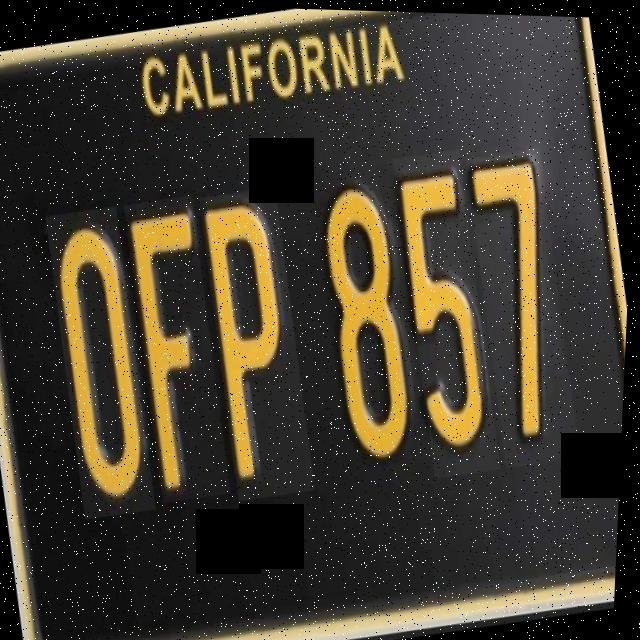0: (37, 203, 172, 520)
5: (383, 144, 515, 477)
7: (456, 142, 594, 466)
8: (303, 165, 439, 487)
F: (115, 192, 245, 503)
P: (190, 183, 330, 500)
